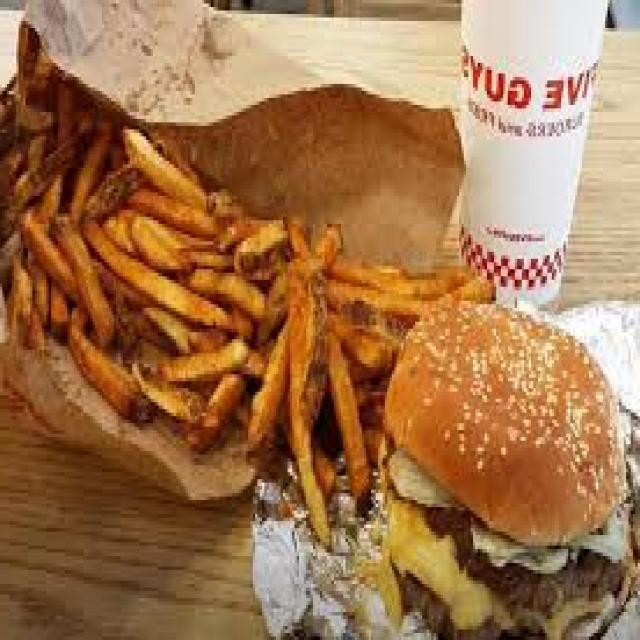Burger: (366, 269, 636, 640)
French Fries: (2, 52, 494, 552)
